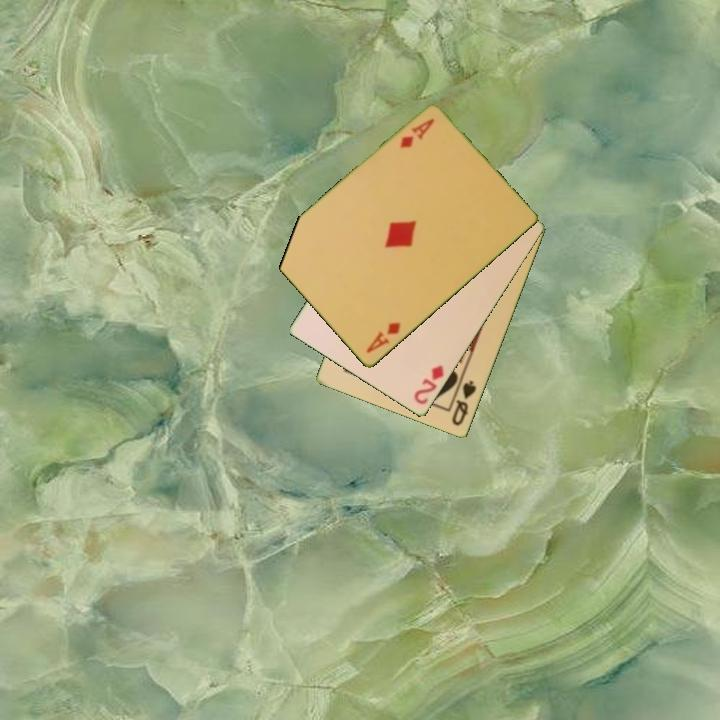2d: (411, 362, 447, 408)
Ad: (362, 319, 404, 356), (396, 115, 437, 152)
Qs: (448, 377, 480, 429)
